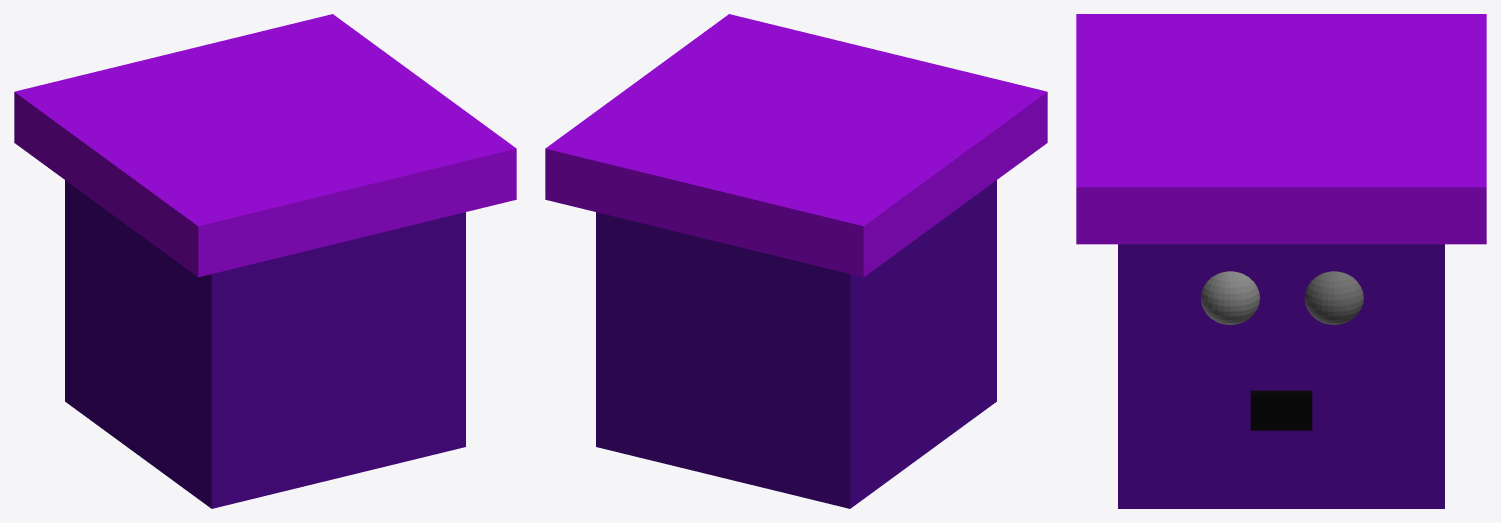
Rendered from agentbox.fbx.
3 renders of one model, left to right at view 1: azimuth 30°, elevation 25°; view 2: azimuth 150°, elevation 25°; view 3: azimuth 270°, elevation 25°, orthographic. The views are drawn at different scales.
Parts seen in each view (by area): view 1: Cube, Cube.001; view 2: Cube, Cube.001; view 3: Cube.001, Cube, Cube.002, Sphere.001, Sphere.
Boxes of the visible parts, x1,y1,x2,y2 form: Cube: [65, 180, 465, 508]; Cube.001: [14, 14, 516, 277]; Cube: [596, 180, 996, 508]; Cube.001: [545, 14, 1047, 277]; Cube.001: [1076, 14, 1486, 244]; Cube: [1118, 244, 1444, 508]; Cube.002: [1250, 390, 1312, 430]; Sphere.001: [1304, 271, 1363, 324]; Sphere: [1200, 271, 1259, 324].
Size of the model in its own units: 2.51 by 2.29 by 2.51.
